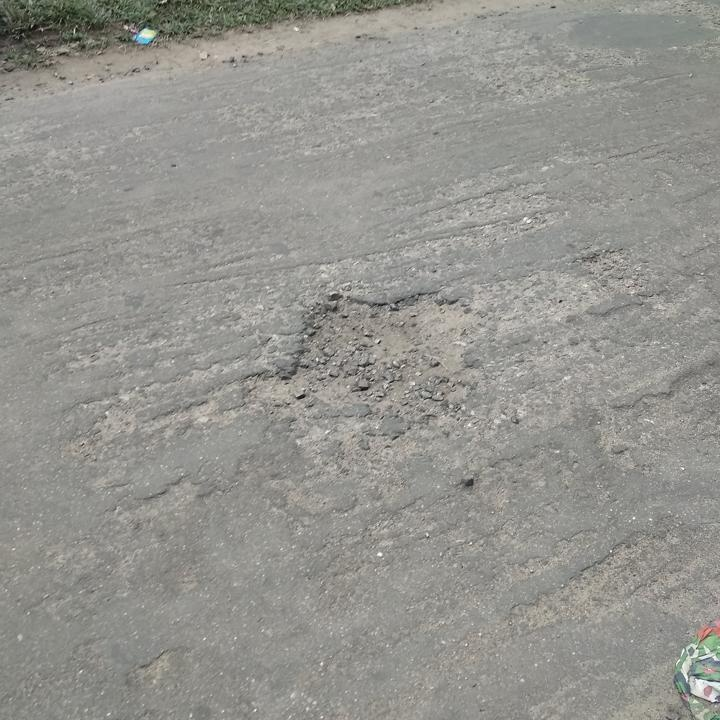pothole: (248, 280, 488, 419)
